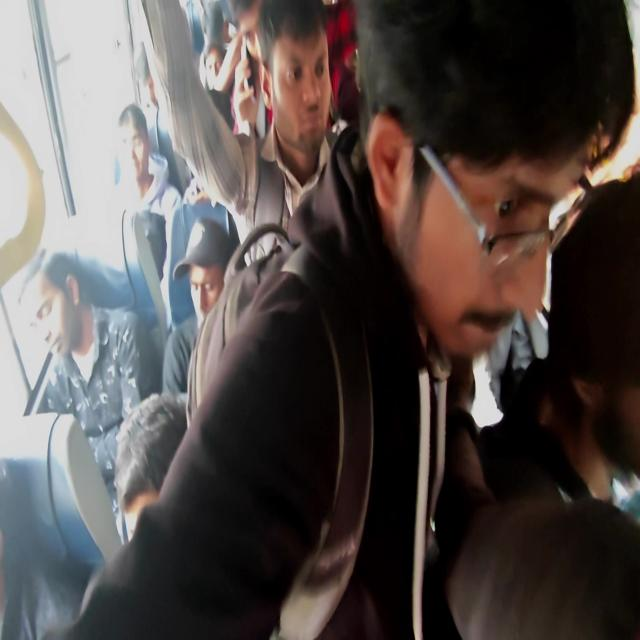person: (355, 16, 583, 379), (560, 235, 640, 489), (265, 0, 348, 148), (0, 449, 53, 640), (115, 431, 177, 556), (27, 264, 86, 373), (190, 229, 237, 321), (231, 0, 282, 70), (114, 113, 152, 184), (205, 60, 243, 106), (138, 48, 164, 105), (202, 8, 232, 51)
